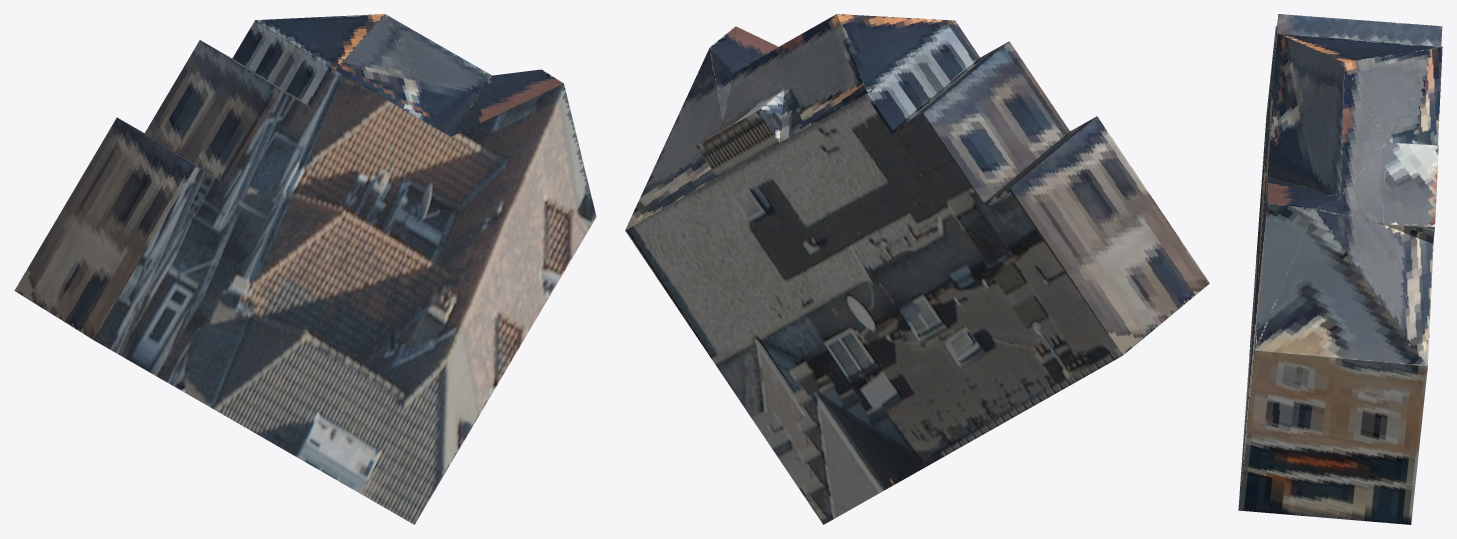
The picture shows the model from 3 angles, left to right: view 1: azimuth 30°, elevation 25°; view 2: azimuth 150°, elevation 25°; view 3: azimuth 270°, elevation 25°; orthographic projection.
Visible parts, largest first — view 1: BAG_0599100000760368 (×4); view 2: BAG_0599100000760368 (×5); view 3: BAG_0599100000760368 (×6).
Part boxes in pixels (box(x1,y1,x2,y2)): BAG_0599100000760368 (×4): box(14, 14, 596, 524); BAG_0599100000760368 (×5): box(625, 14, 1209, 524); BAG_0599100000760368 (×6): box(1238, 14, 1442, 524).
Size of the model in its own units: 18.79 by 17.18 by 6.74.
7 materials, 7 textured.
